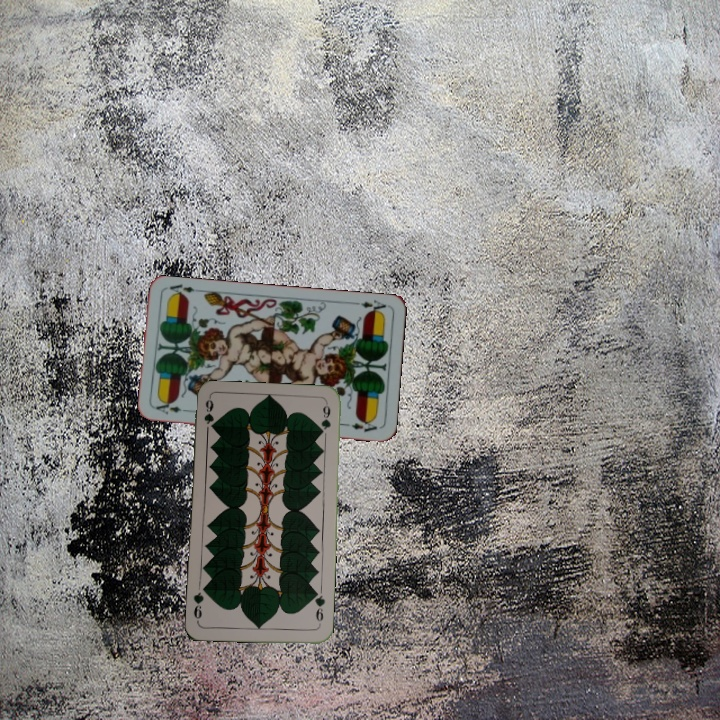EA: (350, 296, 390, 316), (152, 400, 193, 417)
G9: (310, 588, 328, 624), (200, 395, 216, 427)
